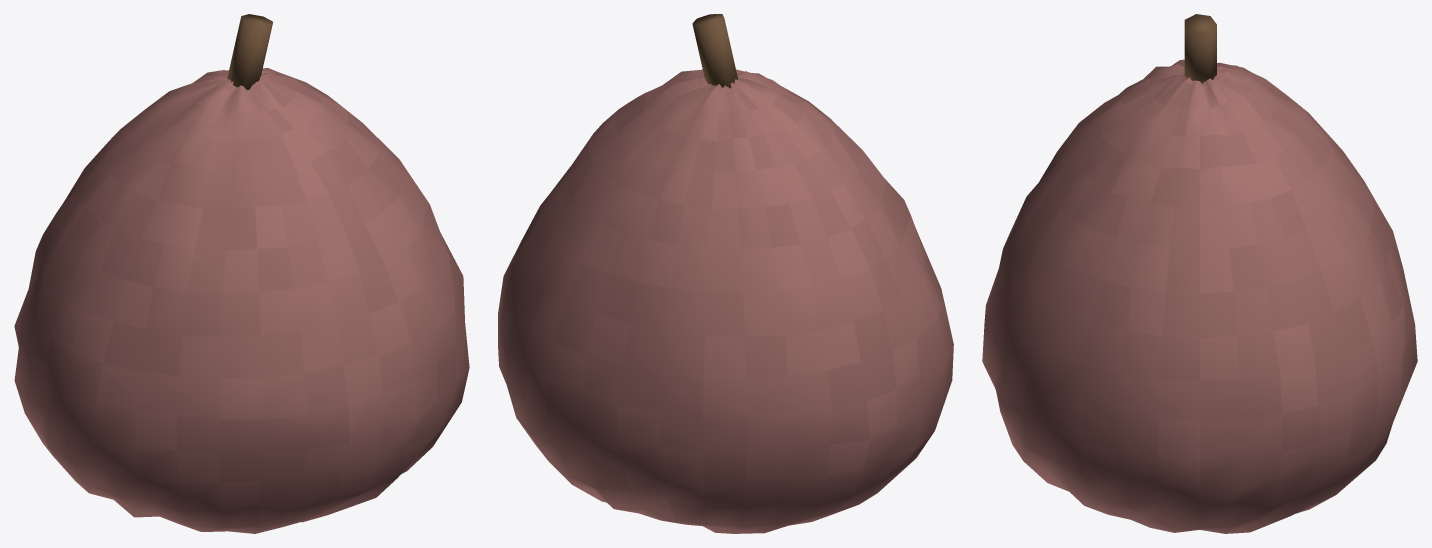
Rendered from Shallot.glb.
3 renders of one model, left to right at view 1: azimuth 30°, elevation 25°; view 2: azimuth 150°, elevation 25°; view 3: azimuth 270°, elevation 25°, orthographic.
Visible parts, largest first — view 1: Shallot; view 2: Shallot; view 3: Shallot.
Part boxes in pixels (x1,y1,x2,y2): Shallot: [14, 14, 469, 533]; Shallot: [498, 14, 953, 533]; Shallot: [982, 14, 1417, 533].
Size of what is drawn, in the model's own units: 0.0769 by 0.0895 by 0.0717.
